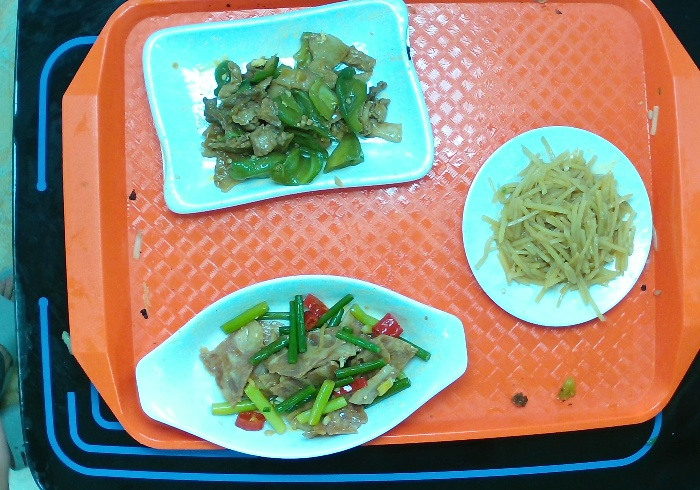RJxy-Si_Fang_Ao_Bian_Wan: (138, 1, 436, 216)
RJxy-Xiao_Yuan_Die: (455, 120, 656, 329)
RJxy-Yu_Pan: (132, 269, 469, 462)
